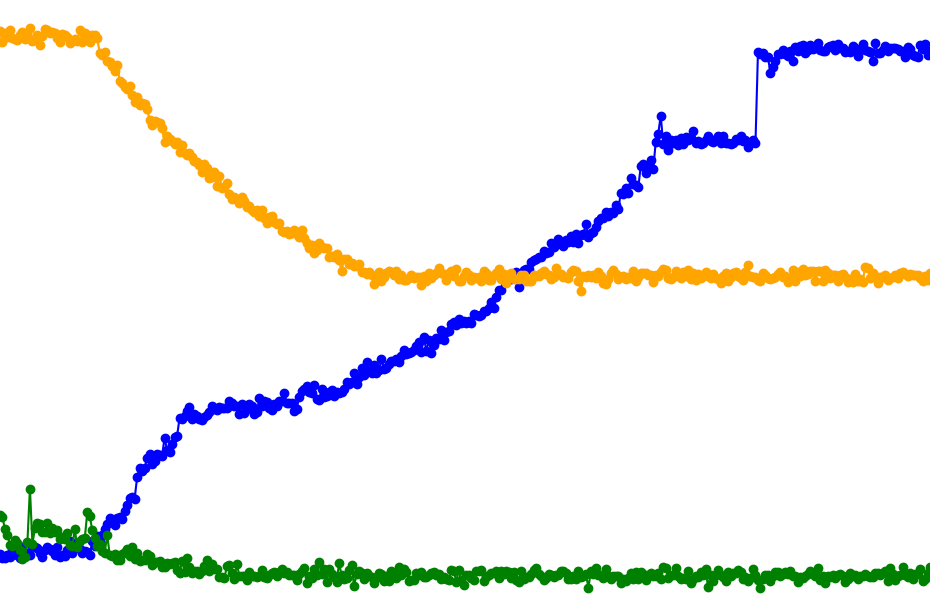CO2 Problem: (119, 0, 299, 616)
Condensation (CO2): (299, 0, 478, 616), (777, 0, 930, 616)
High CO2: (538, 0, 777, 616), (478, 0, 538, 616)
Normal: (299, 0, 777, 616), (299, 0, 718, 616), (119, 0, 478, 616), (0, 0, 299, 616), (538, 0, 777, 616), (119, 0, 299, 616), (299, 0, 478, 616), (777, 0, 930, 616), (0, 0, 119, 616)
O2 Problem: (538, 0, 777, 616), (359, 0, 538, 616), (777, 0, 930, 616)
